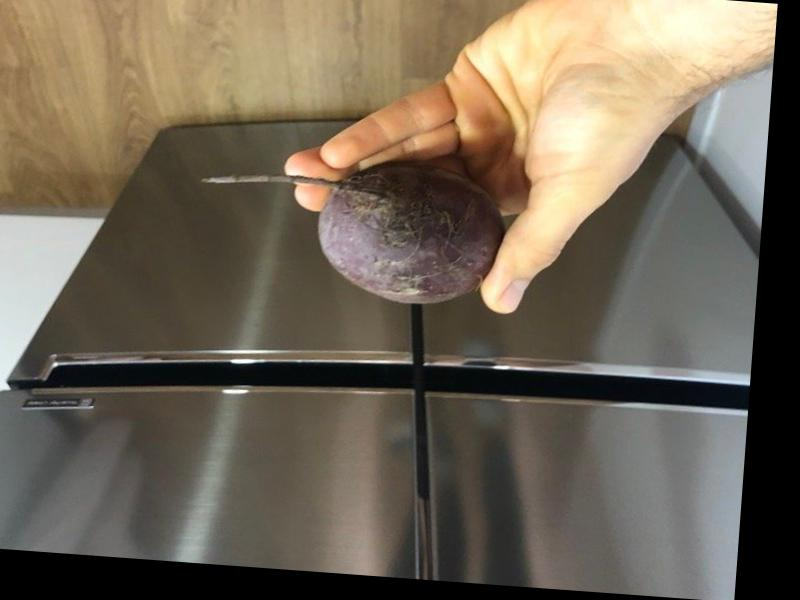Beet: (192, 148, 506, 310)
